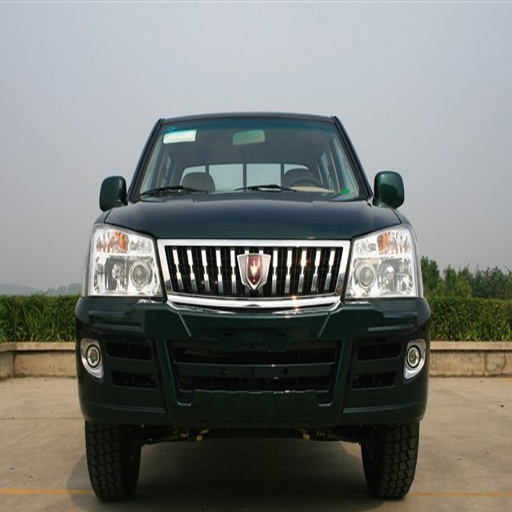front_bumper: (77, 238, 428, 427)
front_right_light: (90, 224, 162, 298)
hood: (110, 190, 394, 244)
